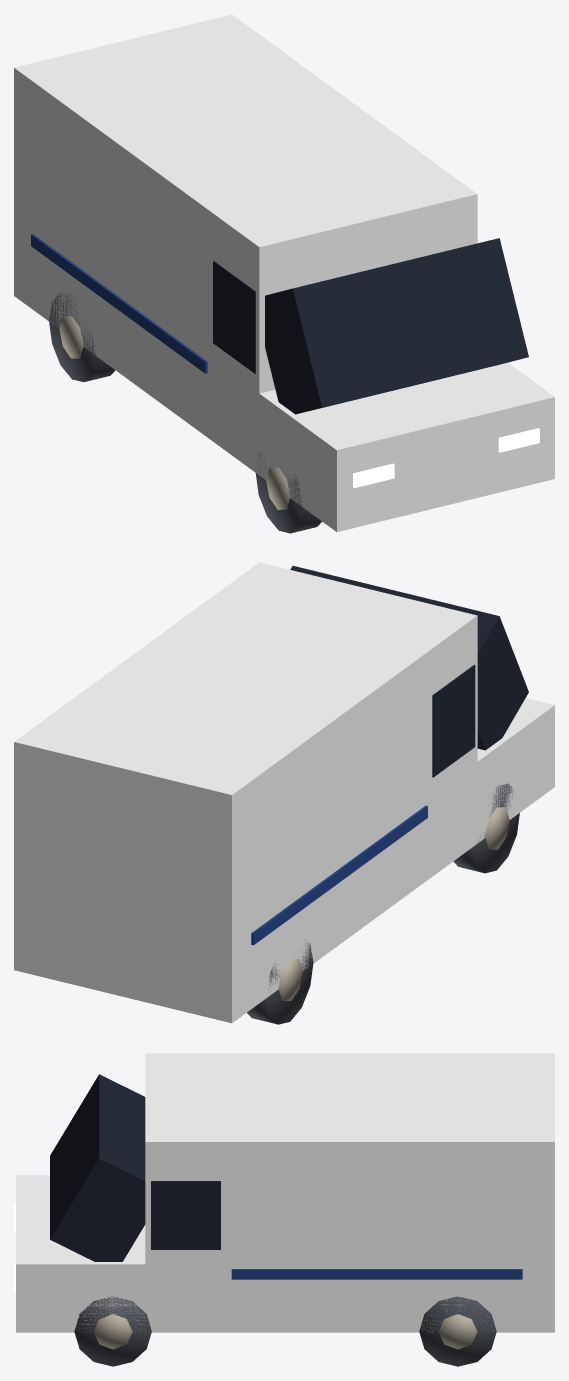
The model's file is cp_van.glb.
The picture shows the model from 3 angles, top to bottom: view 1: azimuth 30°, elevation 25°; view 2: azimuth 150°, elevation 25°; view 3: azimuth 270°, elevation 25°; orthographic projection. The views are drawn at different scales.
Parts seen in each view (by area): view 1: city_cp_van; view 2: city_cp_van; view 3: city_cp_van.
Boxes of the visible parts, x1,y1,x2,y2 form: city_cp_van: [14, 14, 554, 533]; city_cp_van: [14, 562, 554, 1024]; city_cp_van: [14, 1053, 554, 1366].
Bounding box in the file's own units: 1.99 × 2.3 × 5.02.
Materials: 3 (2 with a texture image).
